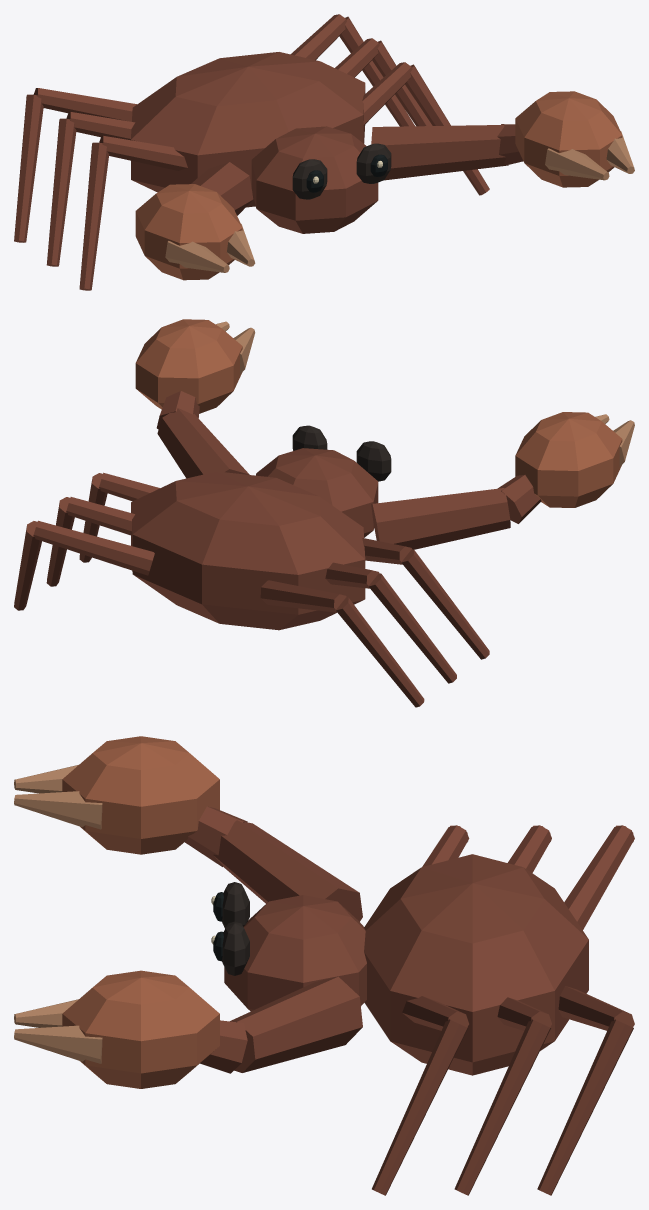
File: fauna-tideclaw_crab.glb
3 views of the same model, one above another, from view 1: azimuth 30°, elevation 25°; view 2: azimuth 150°, elevation 25°; view 3: azimuth 270°, elevation 25° (orthographic). The views are drawn at different scales.
Visible parts, largest first — view 1: Fauna_tideclaw_crab; view 2: Fauna_tideclaw_crab; view 3: Fauna_tideclaw_crab.
Boxes of the visible parts, x1,y1,x2,y2 form: Fauna_tideclaw_crab: [14, 14, 634, 290]; Fauna_tideclaw_crab: [14, 319, 634, 707]; Fauna_tideclaw_crab: [14, 736, 634, 1195].
Size of the model in its own units: 1.9 by 0.6514 by 1.72.
